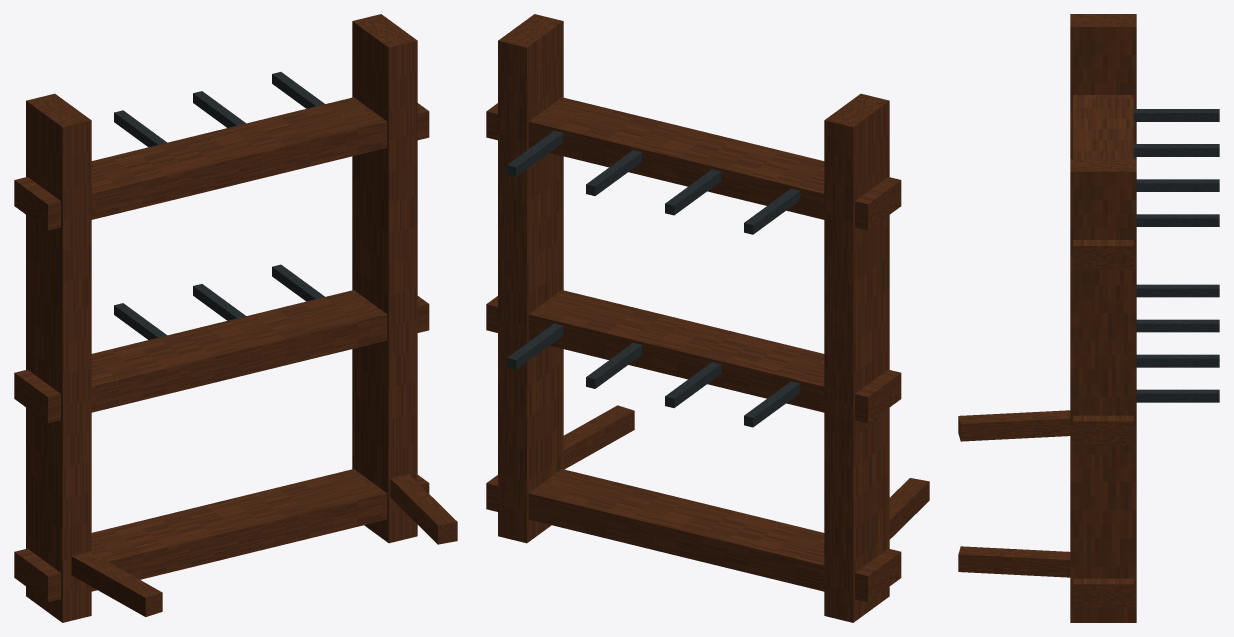
Rendered from SM_weapon_rack.gltf.
3 views of the same model, side by side, from view 1: azimuth 30°, elevation 25°; view 2: azimuth 150°, elevation 25°; view 3: azimuth 270°, elevation 25° (orthographic). The views are drawn at different scales.
Parts seen in each view (by area): view 1: root; view 2: root; view 3: root.
Boxes of the visible parts, x1,y1,x2,y2 form: root: (14,14,457,622); root: (486,14,929,622); root: (958,14,1219,622).
Size of the model in its own units: 1.45 by 1.8 by 0.9441.
2 materials, 2 textured.
